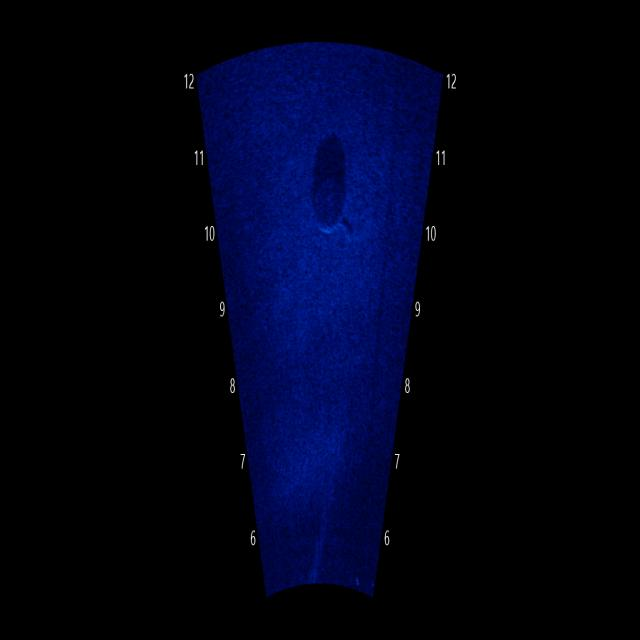circle: (307, 168, 360, 240)
